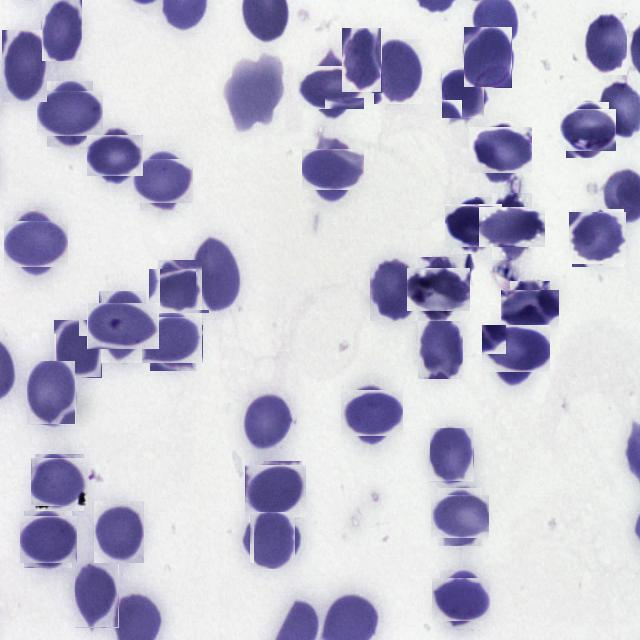red blood cell: (93, 296, 152, 356), (487, 320, 545, 378), (247, 463, 304, 520), (2, 30, 47, 102), (196, 239, 241, 310), (570, 210, 626, 266), (42, 86, 98, 142), (27, 361, 76, 425), (374, 39, 422, 104), (94, 501, 144, 563), (8, 216, 64, 271), (473, 123, 528, 178), (304, 60, 359, 115), (370, 258, 418, 321), (464, 27, 512, 88), (417, 314, 462, 379), (344, 386, 398, 440), (146, 313, 200, 367), (412, 262, 466, 316), (580, 13, 626, 75), (75, 564, 119, 628), (33, 456, 86, 509), (54, 320, 102, 378), (154, 264, 206, 317), (486, 200, 538, 253), (136, 155, 188, 207), (22, 514, 74, 566), (308, 144, 360, 196), (246, 514, 298, 566), (244, 394, 292, 450), (434, 491, 486, 542), (436, 574, 487, 625), (342, 28, 382, 93), (448, 200, 498, 250), (562, 105, 612, 155), (42, 0, 82, 61), (429, 428, 474, 482), (91, 131, 140, 180), (506, 286, 554, 334), (442, 70, 485, 119)
